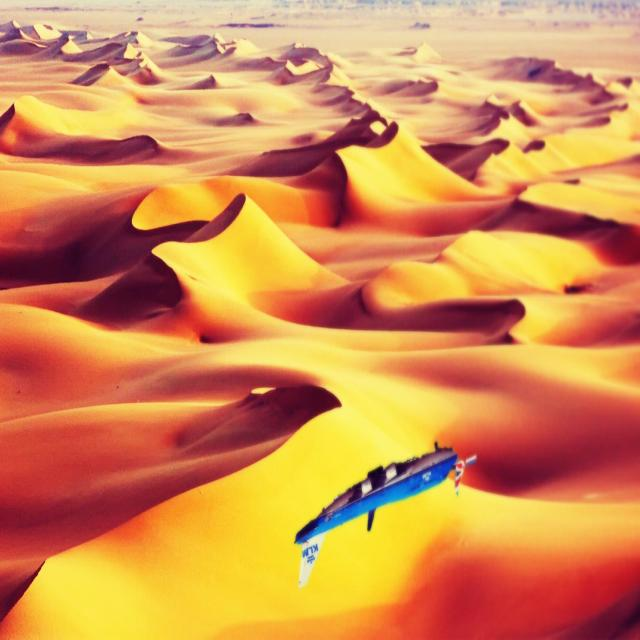airplane: (293, 439, 477, 588)
